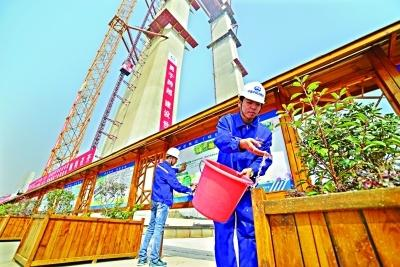helmet: (239, 81, 268, 106), (166, 146, 183, 158)
wear: (220, 120, 268, 187), (153, 165, 175, 200)
